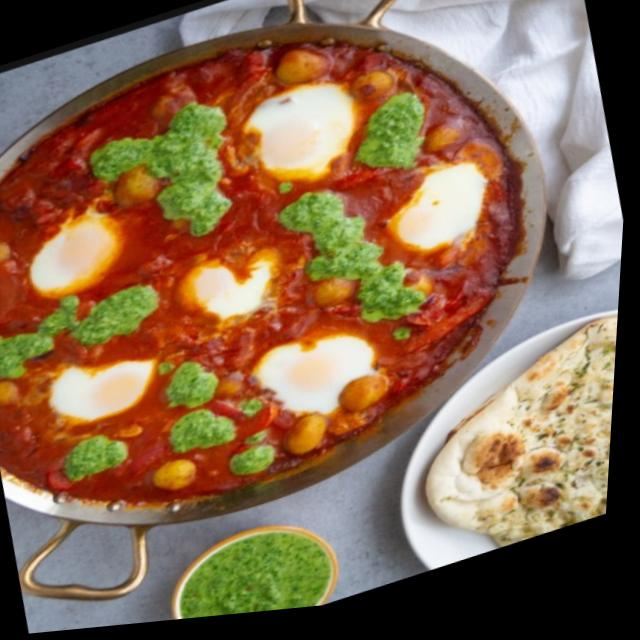CHAPATHI: (419, 320, 617, 547)
EGG: (0, 43, 524, 506)
GREEN CHUTNEY: (186, 538, 329, 618)
